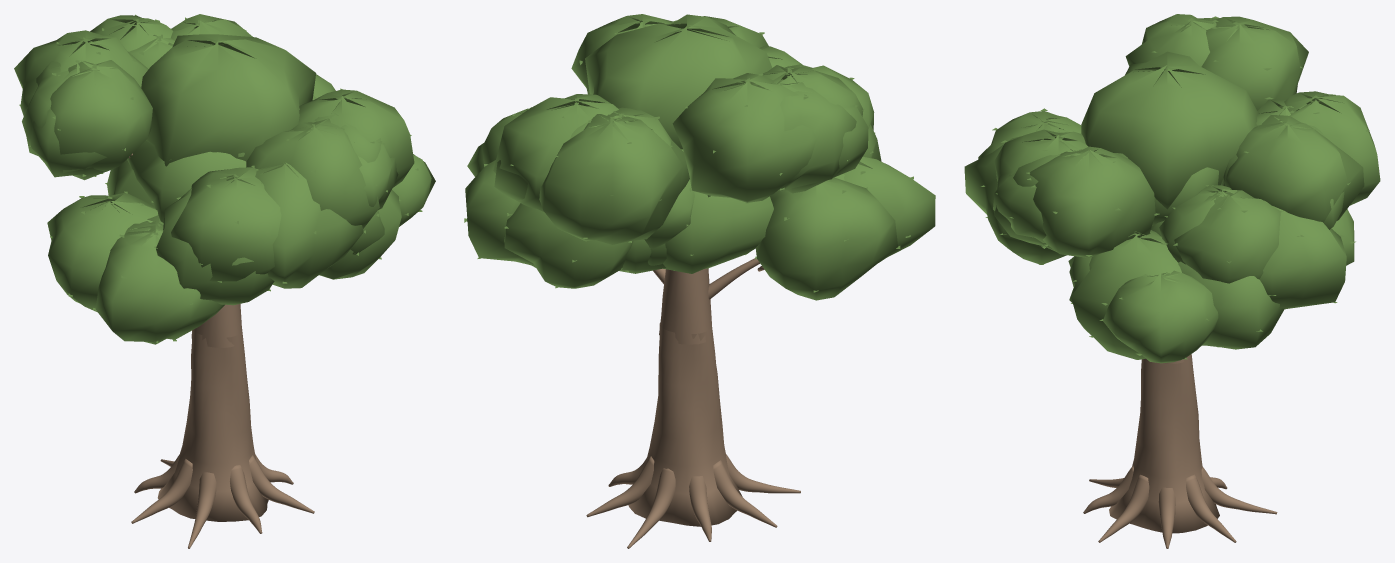
The model's file is arvore_grande.glb.
The picture shows the model from 3 angles, left to right: view 1: azimuth 30°, elevation 25°; view 2: azimuth 150°, elevation 25°; view 3: azimuth 270°, elevation 25°; orthographic projection. The views are drawn at different scales.
Visible parts, largest first — view 1: Arvore_Grande_Copa, Arvore_Grande_Tronco; view 2: Arvore_Grande_Copa, Arvore_Grande_Tronco; view 3: Arvore_Grande_Copa, Arvore_Grande_Tronco.
Boxes of the visible parts, left/top/right/bottom form: Arvore_Grande_Copa: left=14, top=14, right=435, bottom=344; Arvore_Grande_Tronco: left=129, top=153, right=314, bottom=548; Arvore_Grande_Copa: left=464, top=14, right=935, bottom=300; Arvore_Grande_Tronco: left=586, top=258, right=800, bottom=548; Arvore_Grande_Copa: left=964, top=14, right=1380, bottom=363; Arvore_Grande_Tronco: left=1083, top=354, right=1277, bottom=548.
Size of the model in its own units: 16.85 by 19.01 by 15.95.
